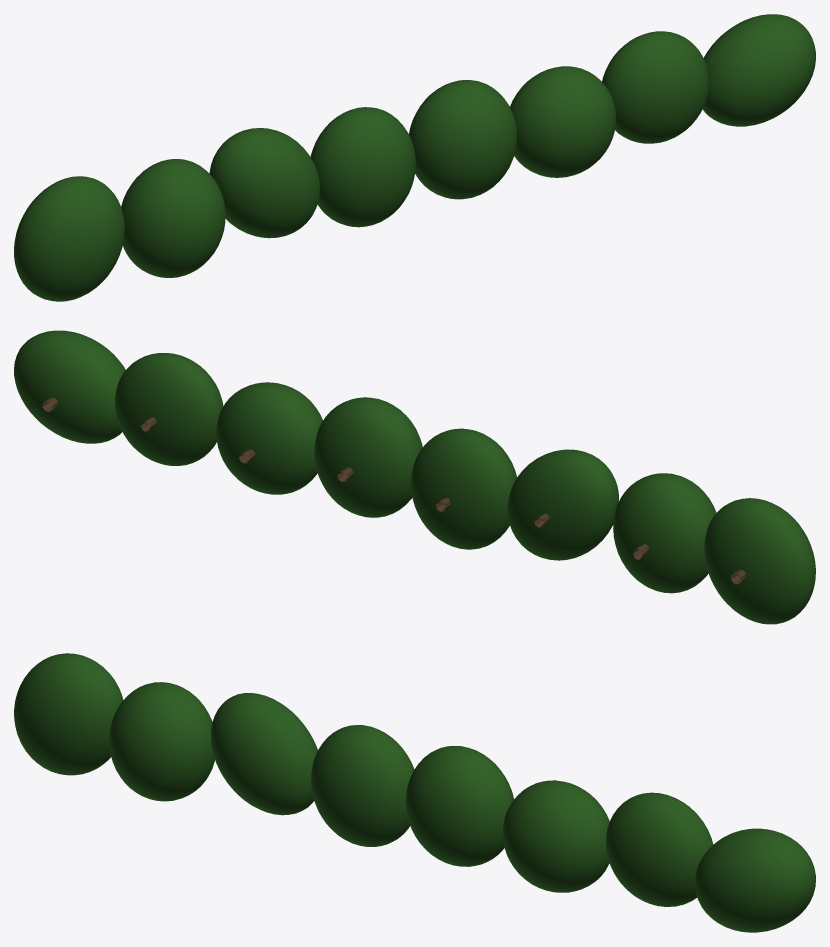
Rendered from citrus_plain8_c.obj.
The picture shows the model from 3 angles, top to bottom: view 1: azimuth 30°, elevation 25°; view 2: azimuth 150°, elevation 25°; view 3: azimuth 330°, elevation 25°; orthographic projection.
Visible parts, largest first — view 1: canopy; view 2: canopy, trunk; view 3: canopy.
Boxes of the visible parts, left/top/right/bottom form: canopy: left=14, top=14, right=815, bottom=301; canopy: left=14, top=330, right=815, bottom=624; trunk: left=42, top=397, right=745, bottom=584; canopy: left=14, top=653, right=815, bottom=932.
Size of the model in its own units: 24.31 by 3.57 by 2.87.
